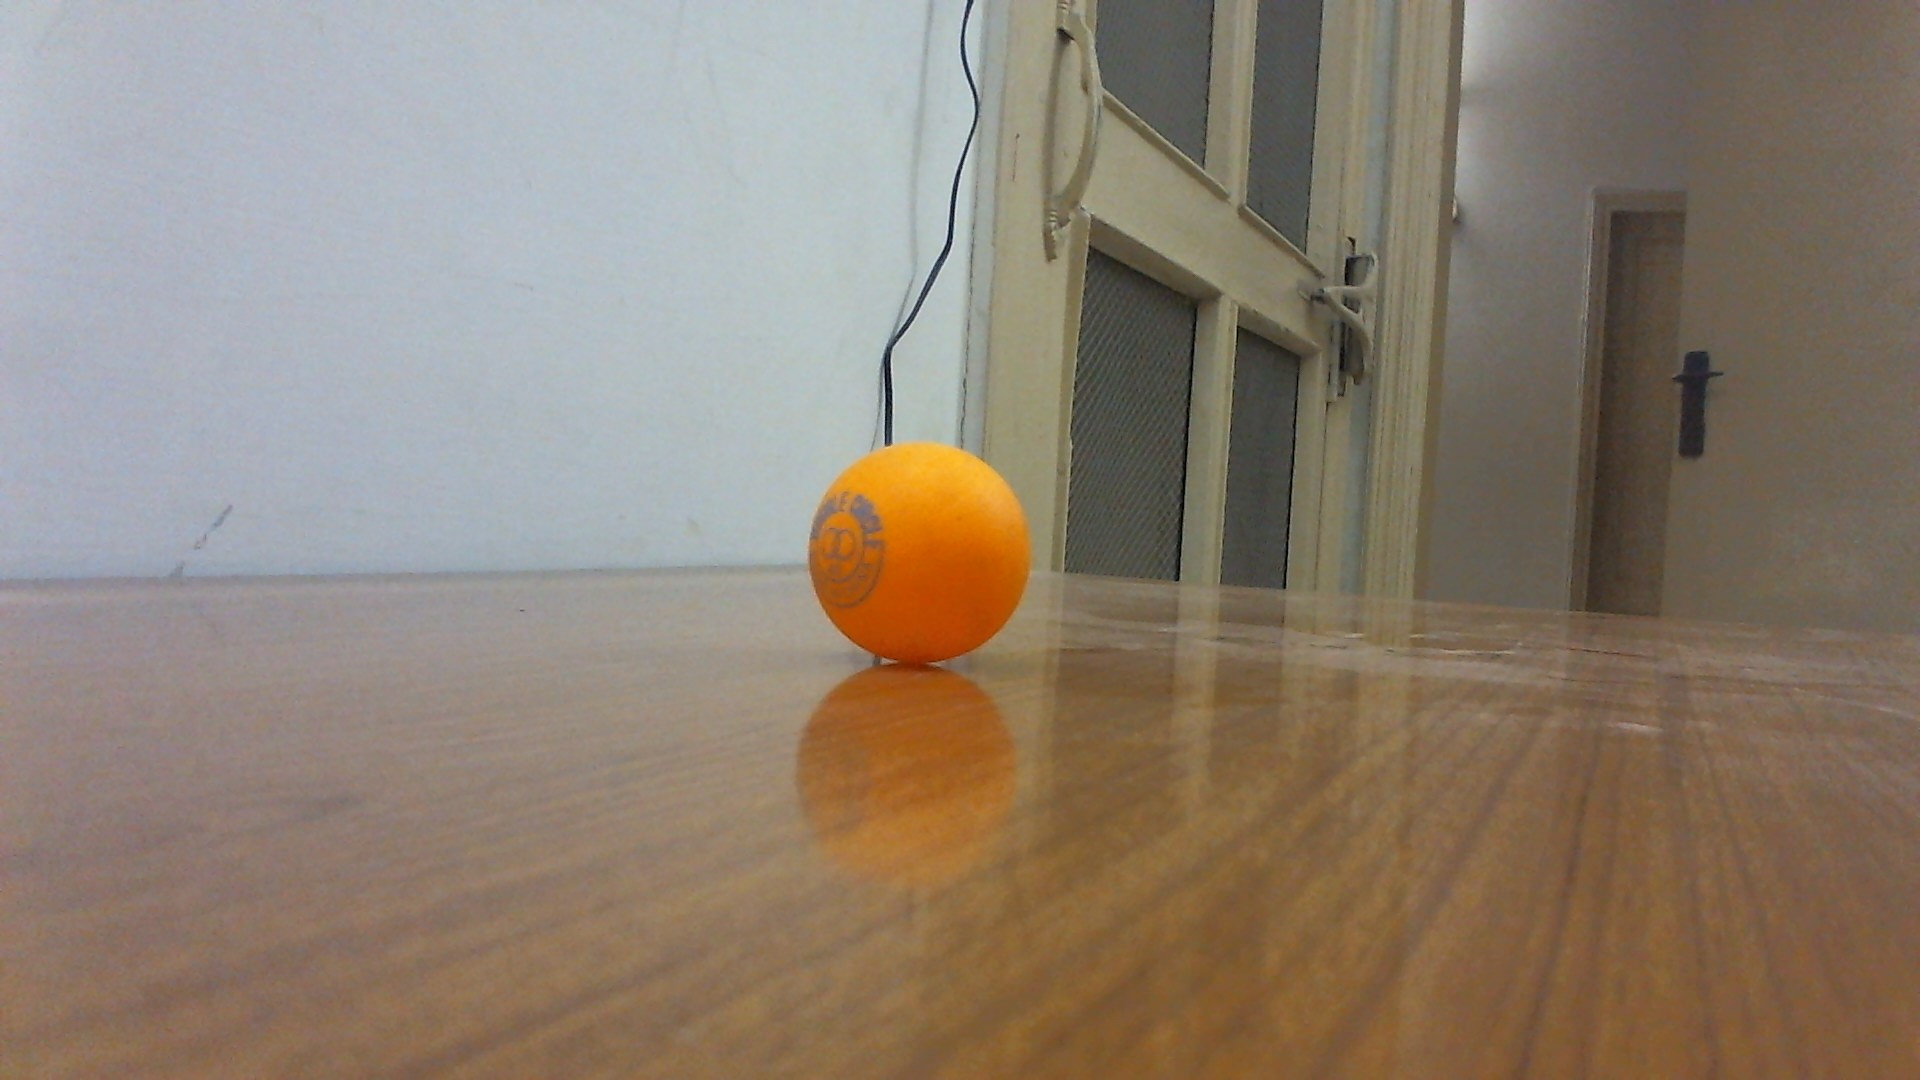ball: (804, 440, 1031, 665)
